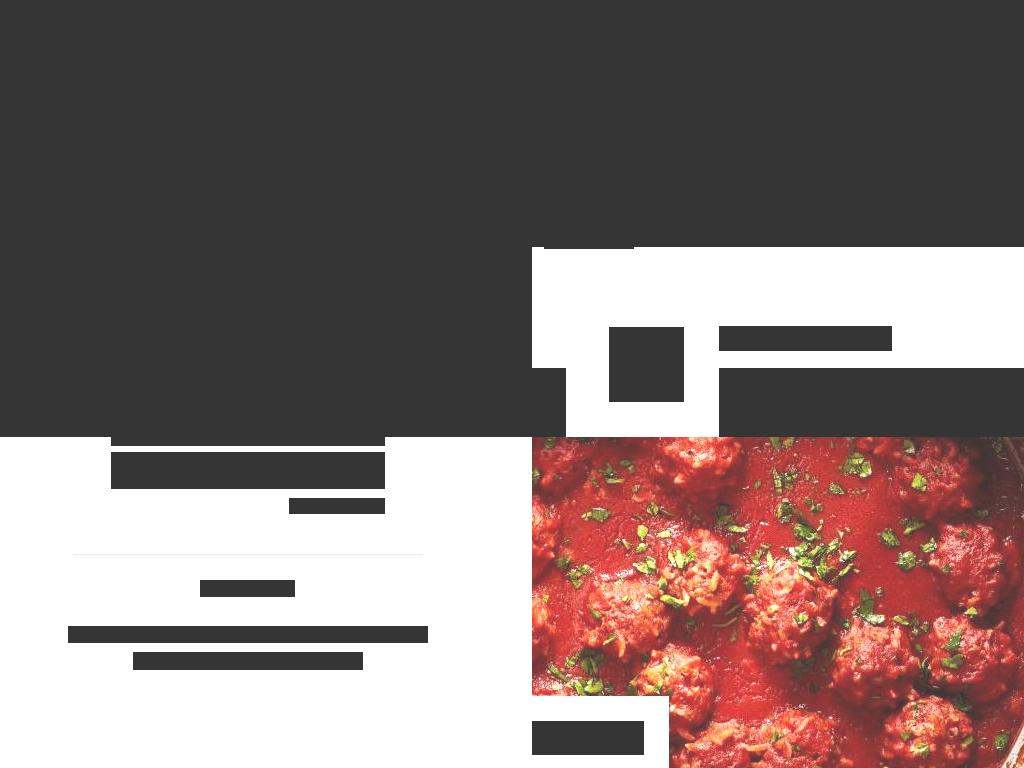button: (20, 341, 367, 363), (20, 297, 271, 319), (289, 498, 385, 514)
field: (111, 452, 385, 489), (111, 437, 385, 446)
heading: (20, 110, 452, 222), (719, 326, 892, 351), (532, 721, 644, 755)
image: (609, 327, 684, 402), (133, 652, 363, 670), (247, 299, 266, 319), (343, 343, 362, 363), (544, 234, 559, 249), (559, 234, 574, 249), (574, 234, 589, 249), (589, 234, 604, 249), (604, 234, 619, 249), (619, 234, 634, 249)
link: (200, 580, 295, 597)
text: (0, 0, 532, 437), (532, 0, 1024, 247), (719, 368, 1024, 437), (20, 231, 452, 272), (292, 0, 532, 28), (68, 626, 428, 643), (20, 341, 271, 363), (20, 297, 206, 319), (271, 341, 338, 363), (206, 297, 242, 319)
